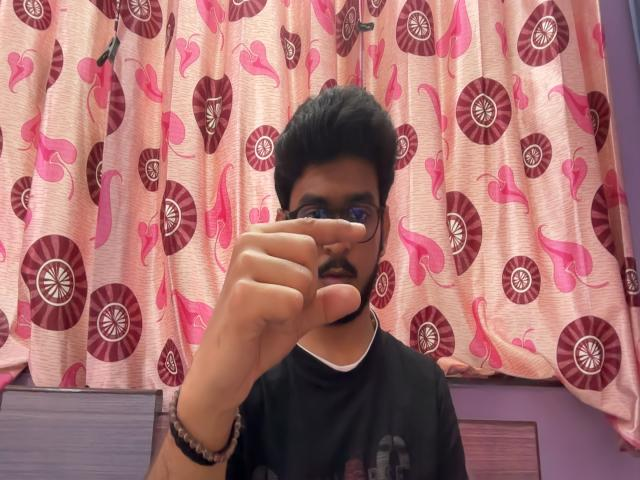No: (189, 205, 375, 404)
